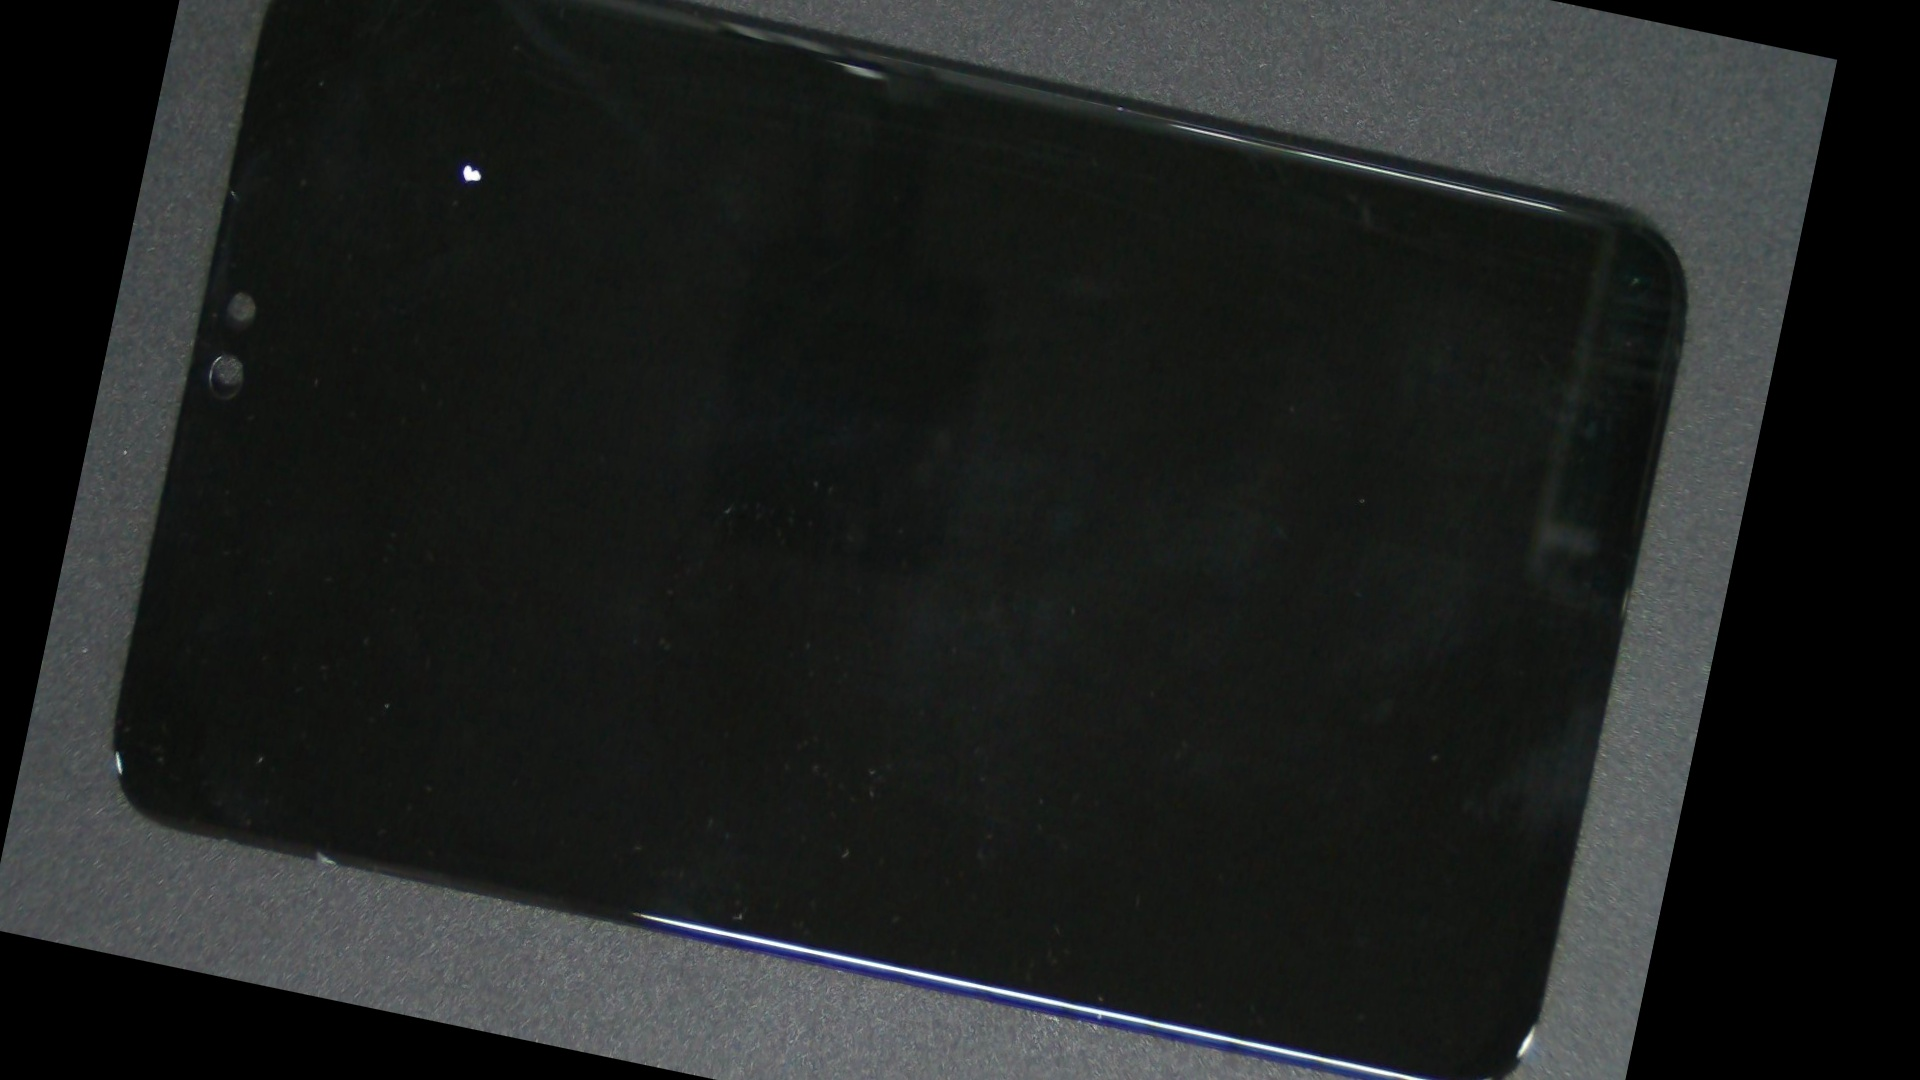oil: (276, 0, 663, 384)
